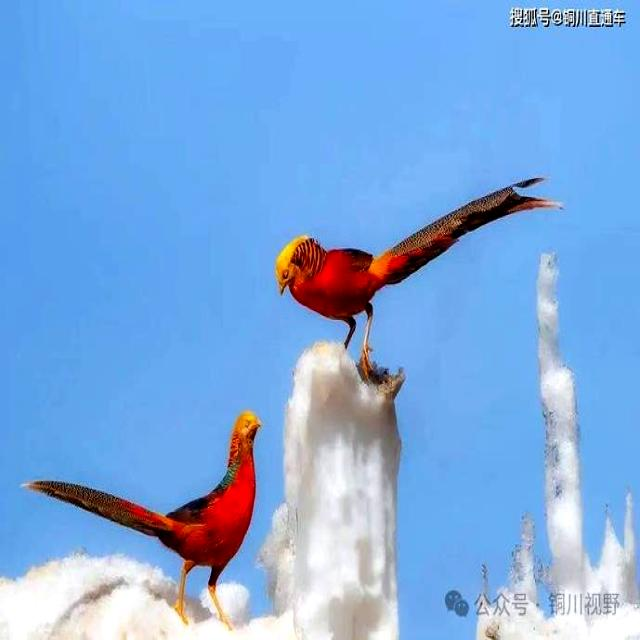Chrysolophus pictus feather: (386, 178, 563, 284), (25, 481, 175, 536)
